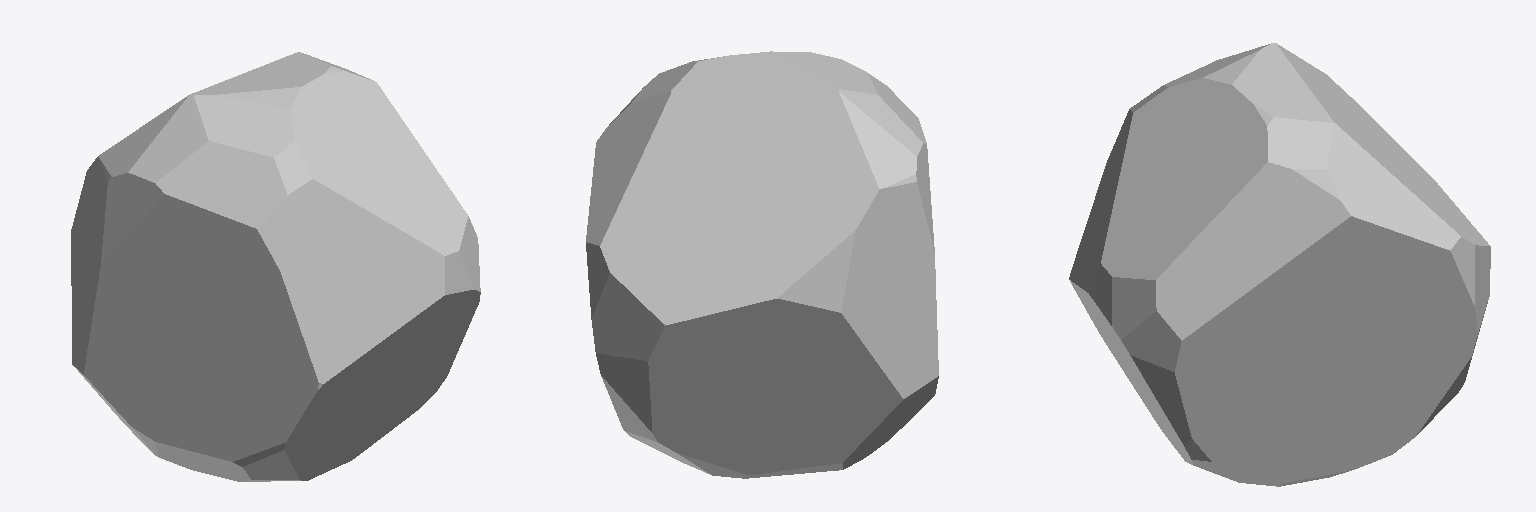
Rendered from stone.obj.
The picture shows the model from 3 angles: view 1: azimuth 30°, elevation 25°; view 2: azimuth 150°, elevation 25°; view 3: azimuth 270°, elevation 25°; orthographic projection.
Visible parts, largest first — view 1: boulder; view 2: boulder; view 3: boulder.
Part boxes in pixels (x1,y1,x2,y2): boulder: (71,52,480,481); boulder: (586,51,938,478); boulder: (1069,43,1490,486).
Size of the model in its own units: 1.32 by 1.34 by 1.41.